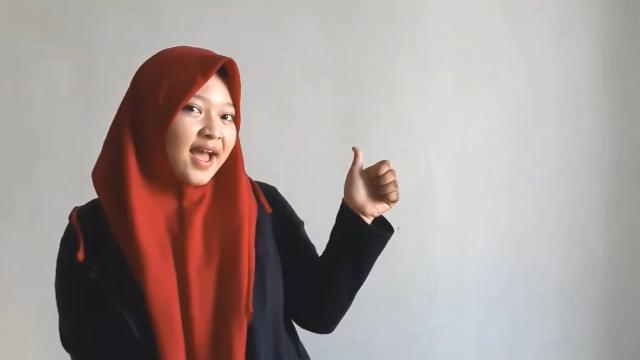A: (339, 142, 403, 219)
